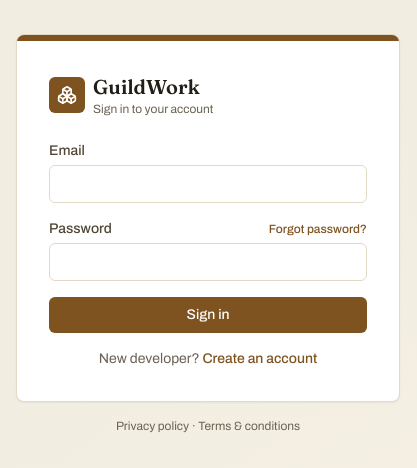
Test case: LoginPage › surfaces the backend's generic invalid-credentials error
This screenshot has width=417, height=468.
Type "dev@example.com" into the field labelled "Email" at (208, 184), box [49,165,367,203]
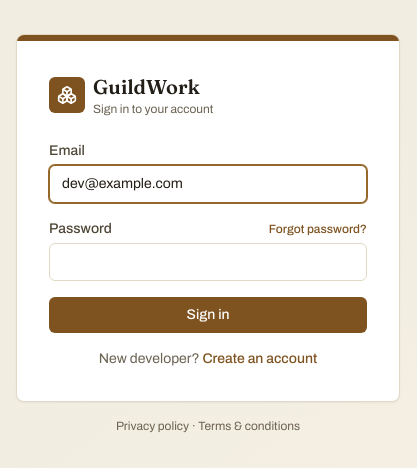
Type "wrong-password" into the password field labelled "Password" at (208, 262), box [49,243,367,281]
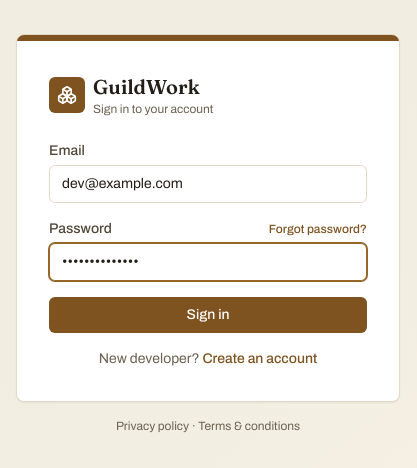
Click the button "Sign in" at (208, 315), box [49,297,367,333]
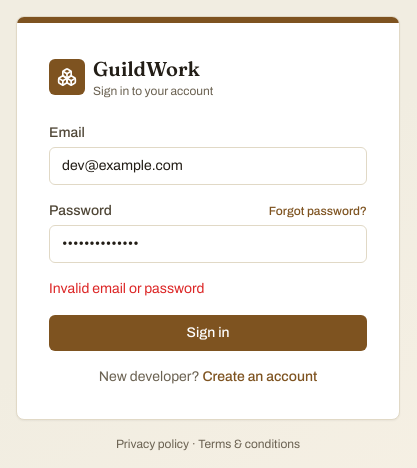
Expected: the message reads "Invalid email or password", [49,281,204,296]
